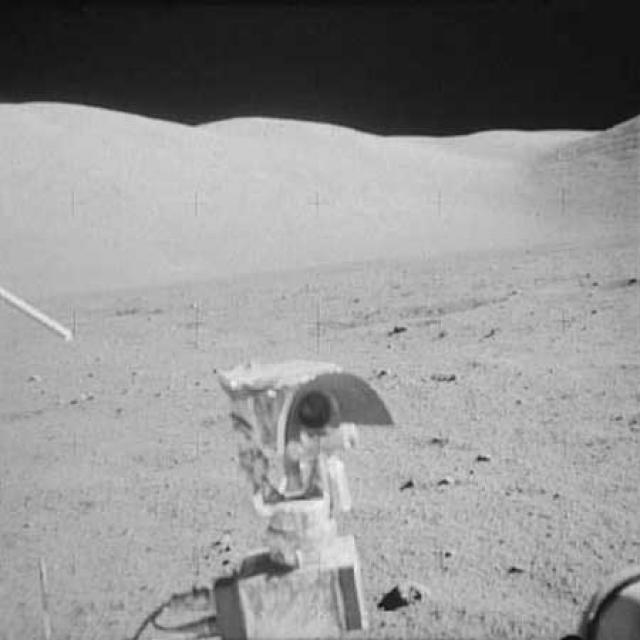artifact: (188, 350, 392, 638), (563, 560, 639, 638), (2, 284, 73, 346)
crater: (300, 295, 510, 325), (90, 304, 168, 318), (586, 274, 639, 293)
rock: (390, 578, 428, 604)
